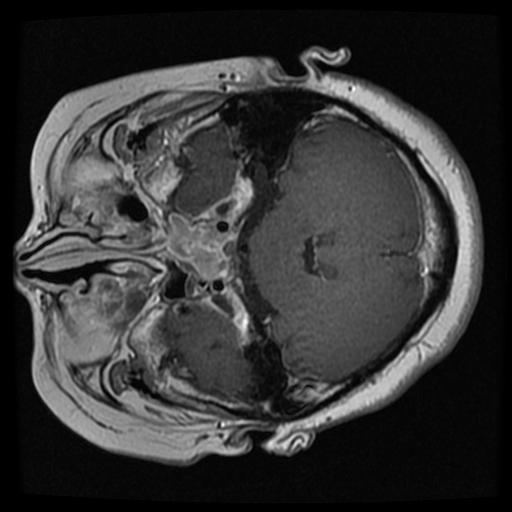pituitary tumour: (165, 213, 229, 281)
